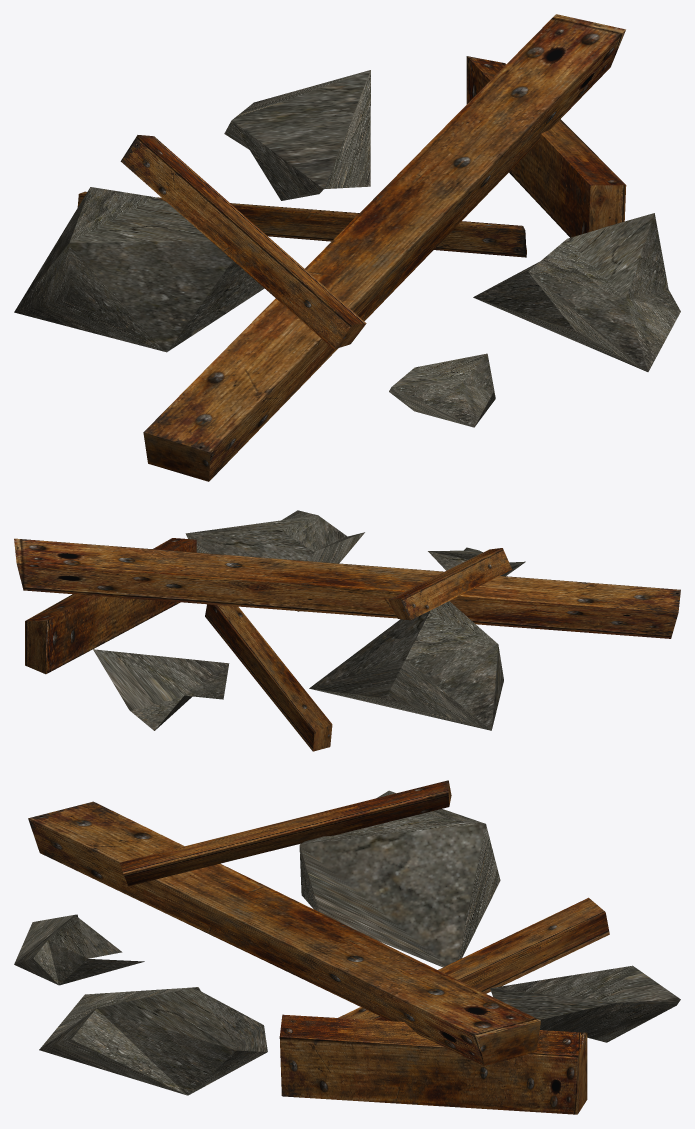
The model's file is mm9_deco_lumberstone03.glb.
3 views of the same model, one above another, from view 1: azimuth 30°, elevation 25°; view 2: azimuth 150°, elevation 25°; view 3: azimuth 270°, elevation 25° (orthographic). The views are drawn at different scales.
Parts seen in each view (by area): view 1: Lumberstone03; view 2: Lumberstone03; view 3: Lumberstone03.
Boxes of the visible parts, <box> form: Lumberstone03: <box>14,14,680,481</box>; Lumberstone03: <box>14,510,680,751</box>; Lumberstone03: <box>14,780,680,1114</box>.
Size of the model in its own units: 2.52 by 0.5262 by 2.27.
1 material, 1 textured.
